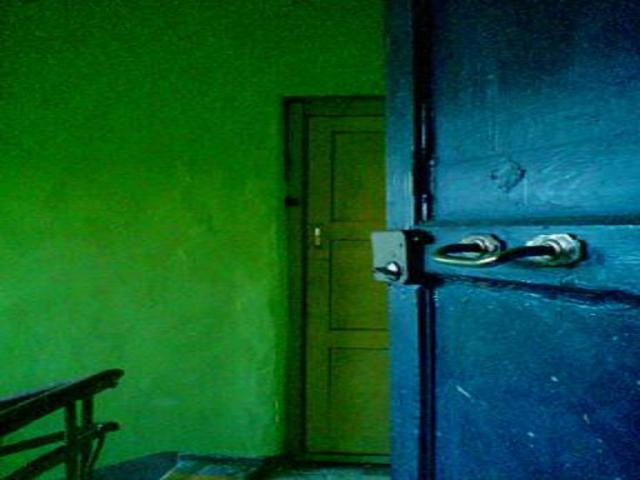Door-handle: (426, 231, 586, 271)
